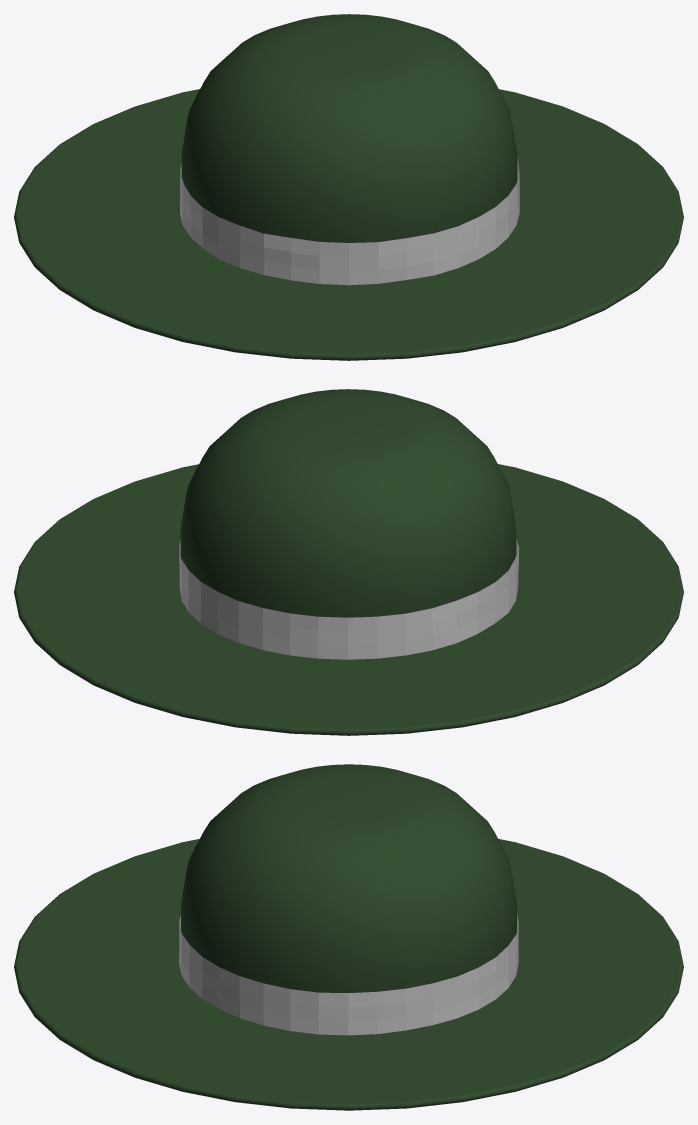
The model's file is greenSummerHat.fbx.
3 views of the same model, one above another, from view 1: azimuth 30°, elevation 25°; view 2: azimuth 150°, elevation 25°; view 3: azimuth 270°, elevation 25° (orthographic).
Visible parts, largest first — view 1: Base, Cylinder_1, ribon; view 2: Base, Cylinder_1, ribon; view 3: Base, Cylinder_1, ribon.
Part boxes in pixels (left/top/right/bottom): Base: left=14, top=89, right=683, bottom=360; Cylinder_1: left=181, top=14, right=517, bottom=282; ribon: left=180, top=158, right=519, bottom=285; Base: left=14, top=464, right=683, bottom=735; Cylinder_1: left=180, top=389, right=516, bottom=659; ribon: left=179, top=539, right=519, bottom=659; Base: left=14, top=839, right=683, bottom=1110; Cylinder_1: left=181, top=764, right=516, bottom=1031; ribon: left=179, top=914, right=518, bottom=1035.
Size of the model in its own units: 1400 by 395 by 1400.
